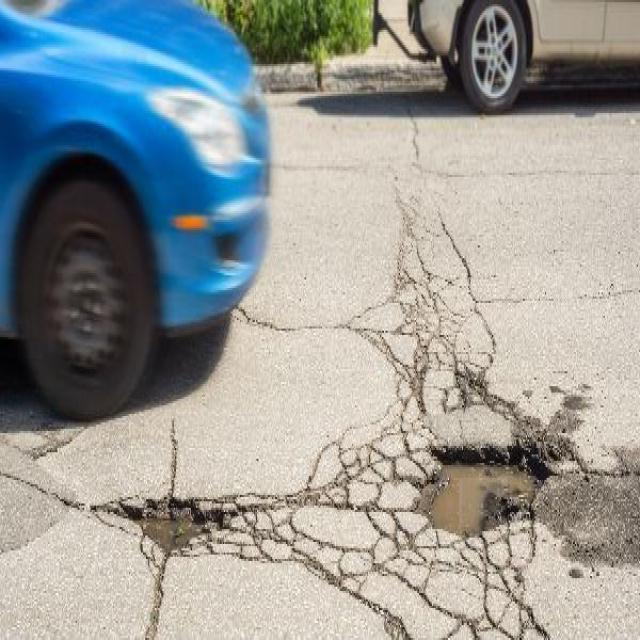buraco: (412, 420, 550, 536), (412, 441, 551, 539), (119, 493, 228, 558), (126, 491, 232, 556)
